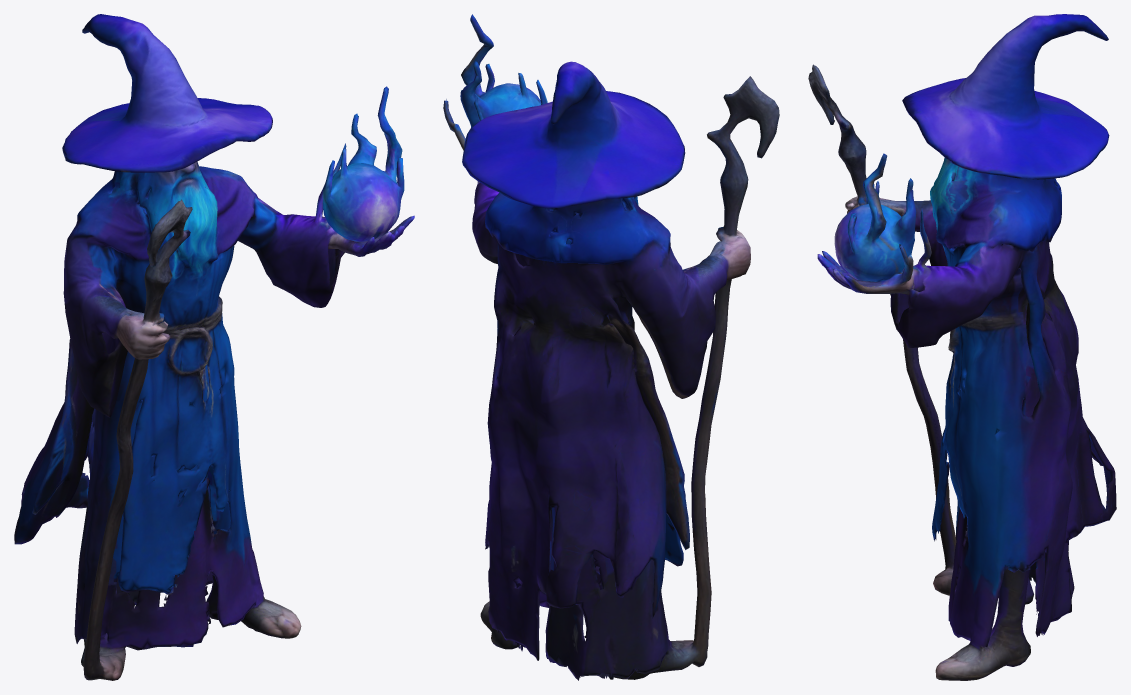
The model's file is evil_wizard_standing__0928190007_refine.glb.
3 renders of one model, left to right at view 1: azimuth 30°, elevation 25°; view 2: azimuth 150°, elevation 25°; view 3: azimuth 270°, elevation 25°, orthographic.
Size of the model in its own units: 1.05 by 2 by 0.9176.
1 material, 1 textured.
